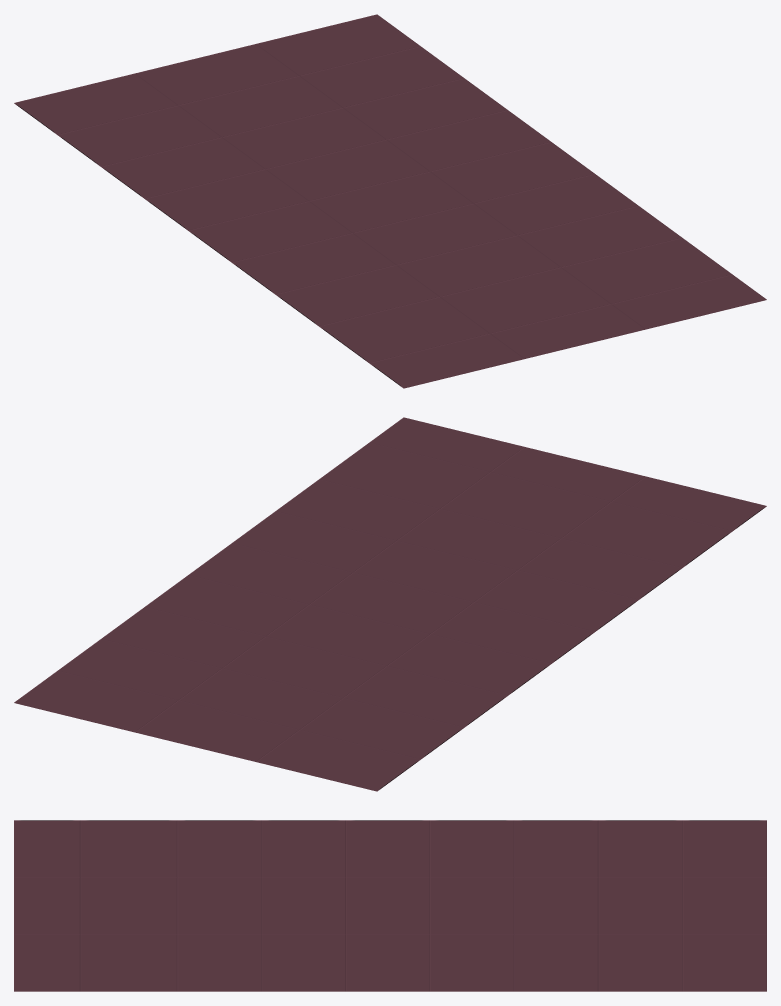
File: floor.fbx
3 renders of one model, top to bottom at view 1: azimuth 30°, elevation 25°; view 2: azimuth 150°, elevation 25°; view 3: azimuth 270°, elevation 25°, orthographic. The views are drawn at different scales.
Parts seen in each view (by area): view 1: floor_Baked; view 2: floor_Baked; view 3: floor_Baked.
Boxes of the visible parts, <box> form: floor_Baked: <box>14,14,766,388</box>; floor_Baked: <box>14,417,766,791</box>; floor_Baked: <box>14,820,766,991</box>.
Size of the model in its own units: 8318 by 8.21 by 15460.
1 material, 1 textured.
